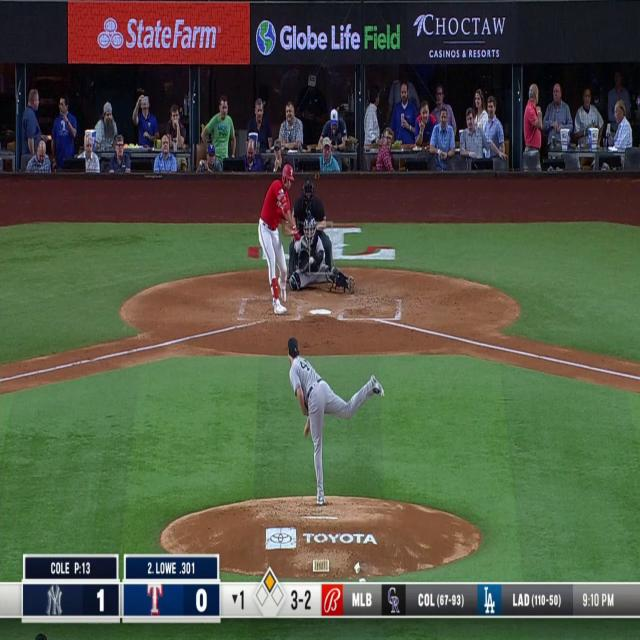baseball: (309, 256, 314, 265)
